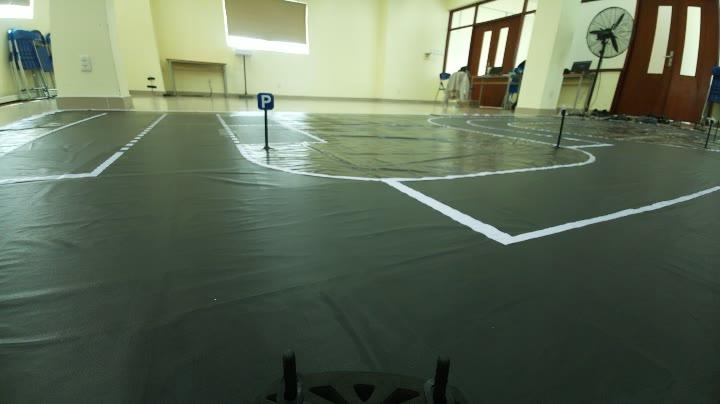parking: (251, 88, 284, 113)
